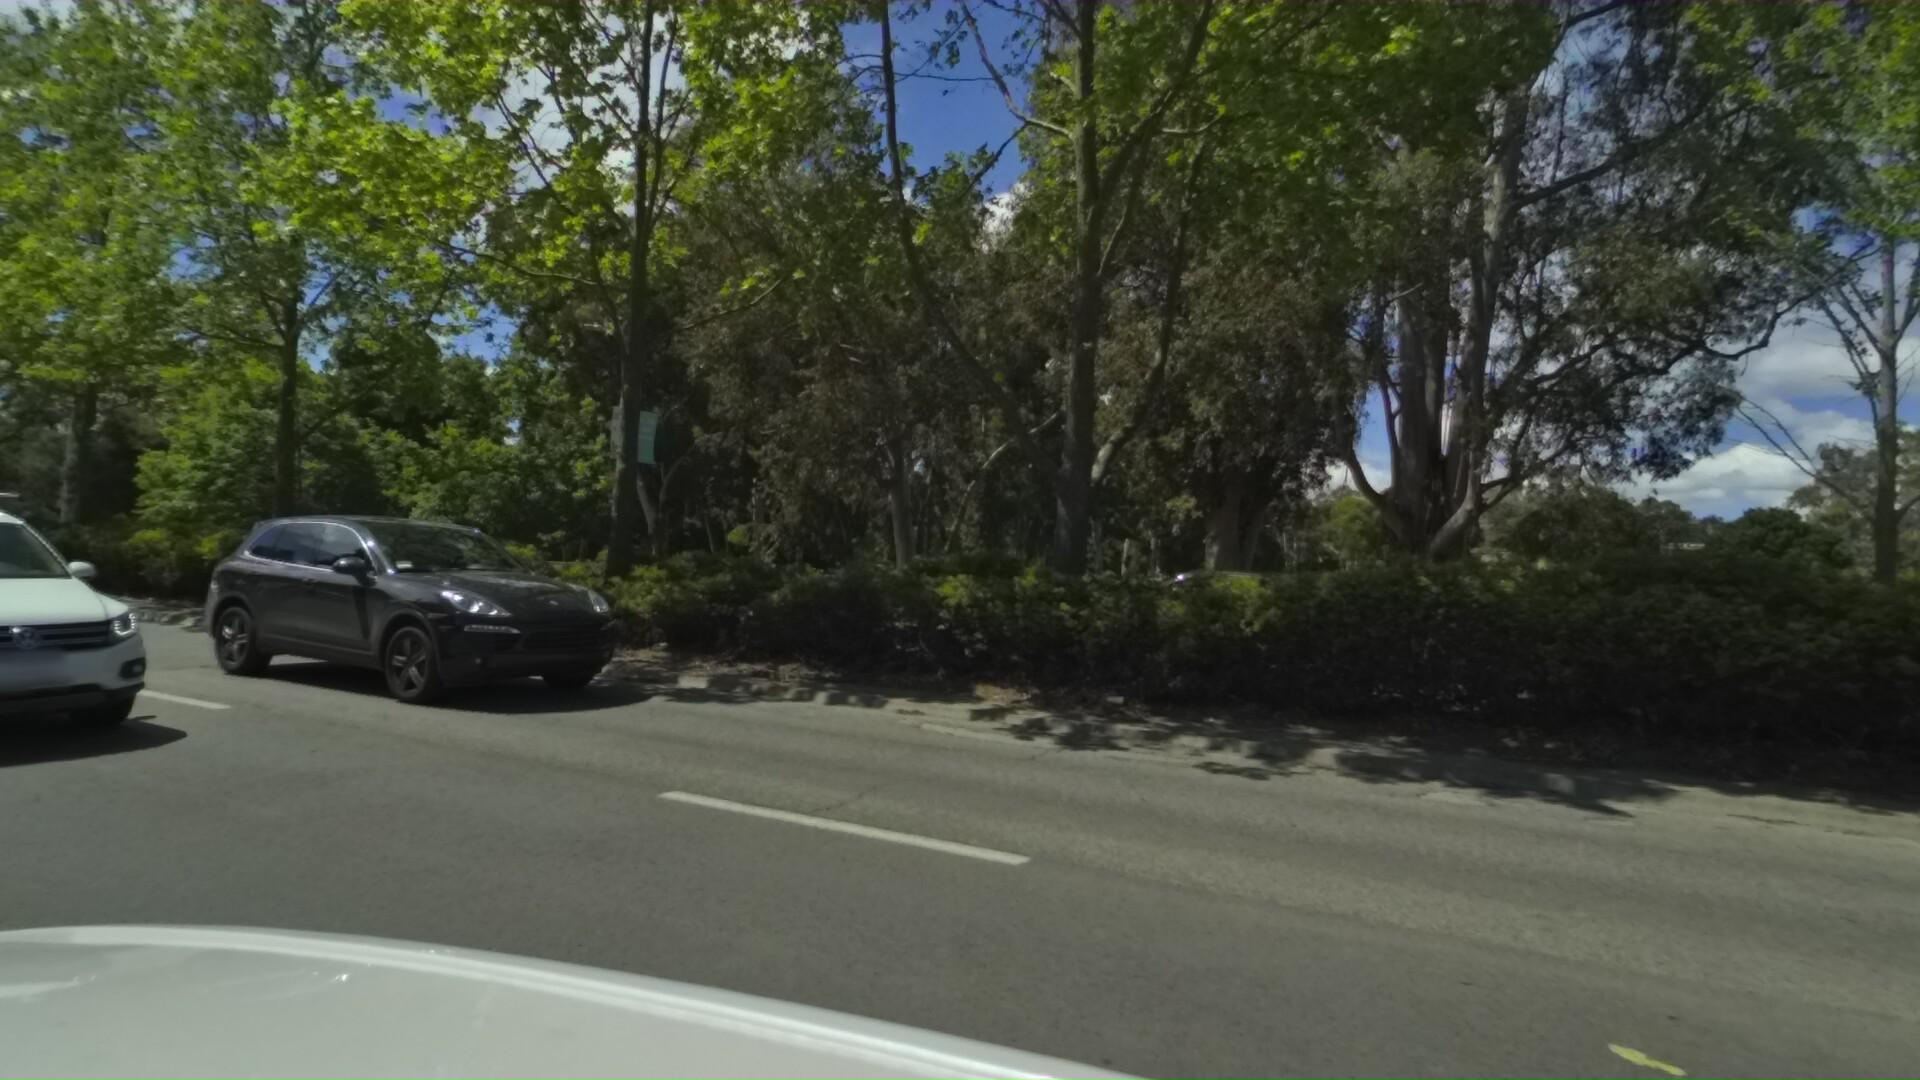car: (177, 509, 651, 728), (0, 468, 199, 789), (1009, 556, 1291, 670)
